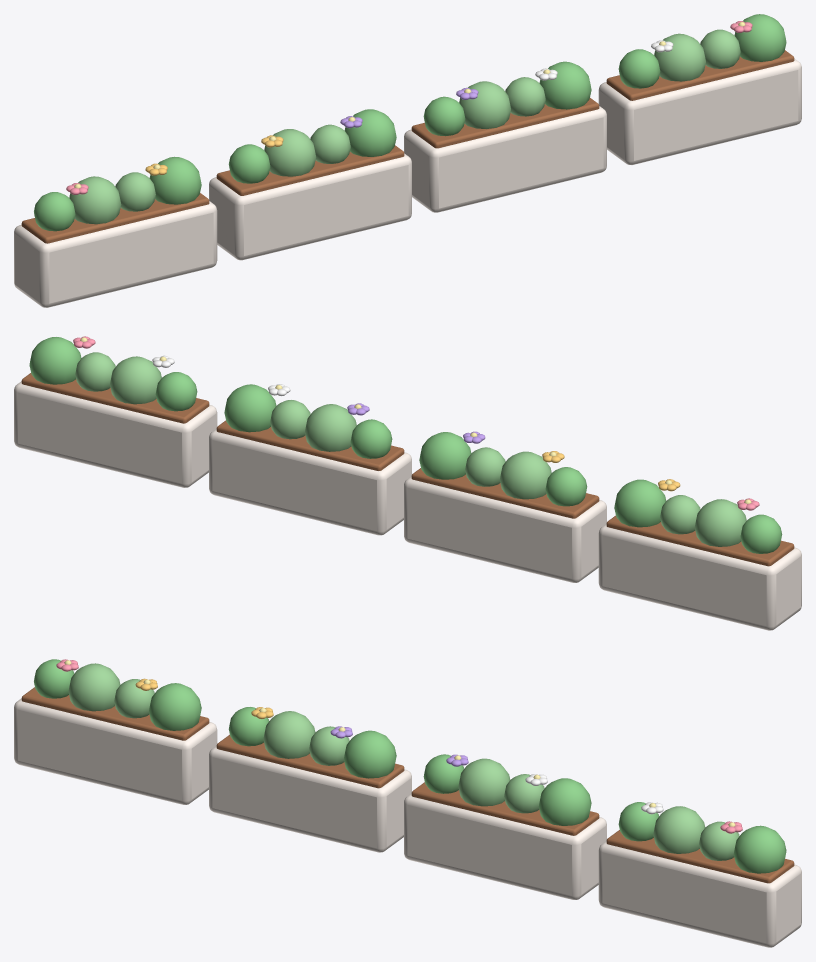
File: planters.glb
3 renders of one model, top to bottom at view 1: azimuth 30°, elevation 25°; view 2: azimuth 150°, elevation 25°; view 3: azimuth 330°, elevation 25°, orthographic.
Visible parts, largest first — view 1: cfff6ef, c8ccf8a, c9fd49a, ca8724e; view 2: cfff6ef, c8ccf8a, c9fd49a, ca8724e; view 3: cfff6ef, c8ccf8a, c9fd49a, ca8724e.
Boxes of the visible parts, x1,y1,x2,y2 form: cfff6ef: (14,58,801,307); c8ccf8a: (34,14,786,231); c9fd49a: (69,29,740,224); ca8724e: (21,50,794,243); cfff6ef: (14,381,801,630); c8ccf8a: (29,337,782,553); c9fd49a: (75,352,746,546); ca8724e: (21,373,794,566); cfff6ef: (14,698,801,947); c8ccf8a: (34,659,786,873); c9fd49a: (68,663,739,860); ca8724e: (21,687,794,883).
Bounding box in the file's own units: 6.25 × 0.848 × 0.45.
